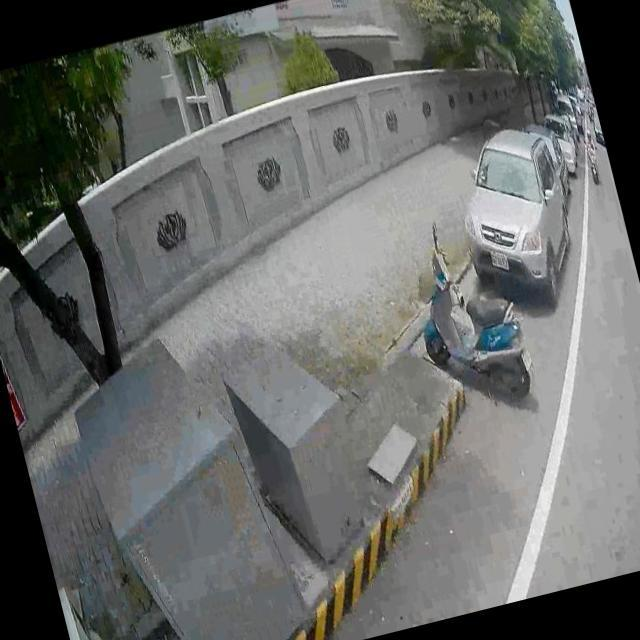person: (581, 128, 595, 150)
